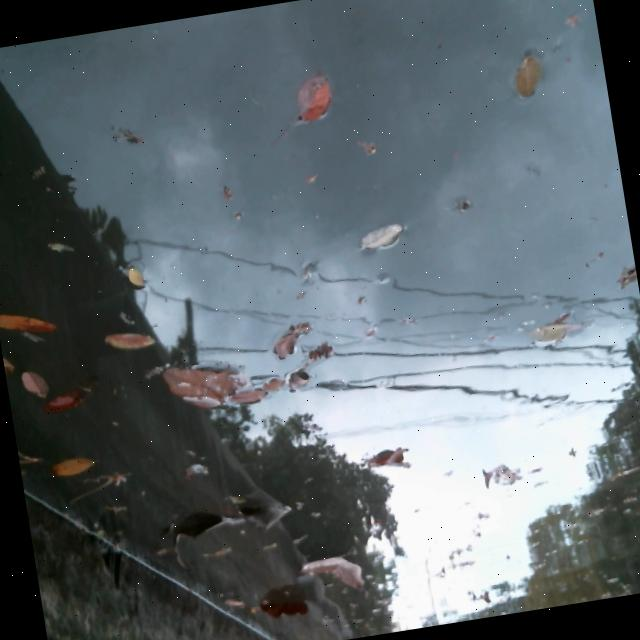Big-leaf: (151, 343, 248, 432), (153, 499, 246, 576), (282, 542, 368, 612), (226, 478, 294, 542), (250, 585, 311, 630)
Small-leaf: (0, 290, 63, 352), (285, 69, 342, 129), (503, 45, 552, 104), (99, 319, 161, 360), (353, 218, 412, 260), (525, 313, 590, 351), (43, 446, 106, 483), (469, 454, 522, 492), (42, 382, 96, 415), (363, 442, 412, 478), (41, 234, 83, 267), (15, 363, 51, 401), (230, 385, 269, 417), (267, 327, 301, 363), (117, 261, 149, 298), (176, 456, 211, 485), (354, 131, 382, 166), (304, 337, 339, 365), (281, 365, 312, 394), (615, 261, 639, 292), (354, 319, 383, 340), (292, 285, 314, 312), (263, 375, 284, 400)
